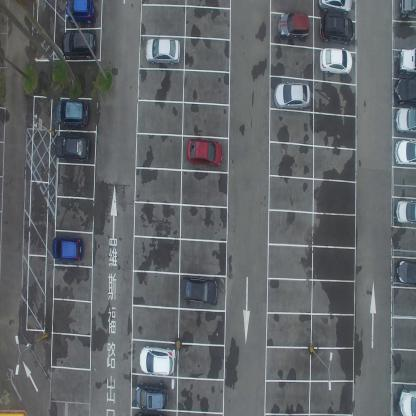car: (138, 344, 177, 378), (180, 275, 218, 306), (320, 13, 354, 46), (61, 28, 96, 60), (186, 139, 223, 168), (274, 82, 311, 110), (52, 233, 84, 265), (145, 38, 181, 66), (319, 46, 352, 76), (135, 382, 169, 411), (54, 100, 88, 128), (54, 136, 90, 162), (278, 12, 310, 40), (65, 0, 94, 25), (394, 139, 416, 168), (395, 77, 415, 108), (396, 108, 416, 137), (396, 198, 416, 226), (396, 258, 416, 286), (398, 46, 416, 76), (398, 386, 416, 416), (316, 0, 354, 14), (398, 0, 416, 20)
